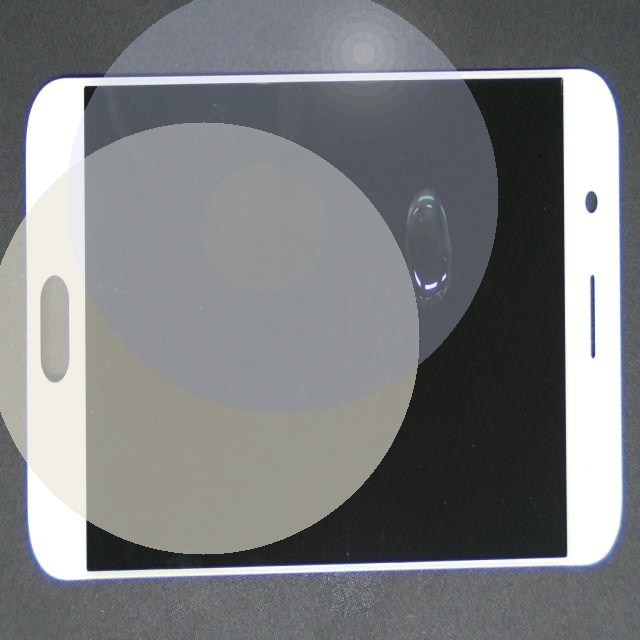oil: (230, 183, 640, 382)
